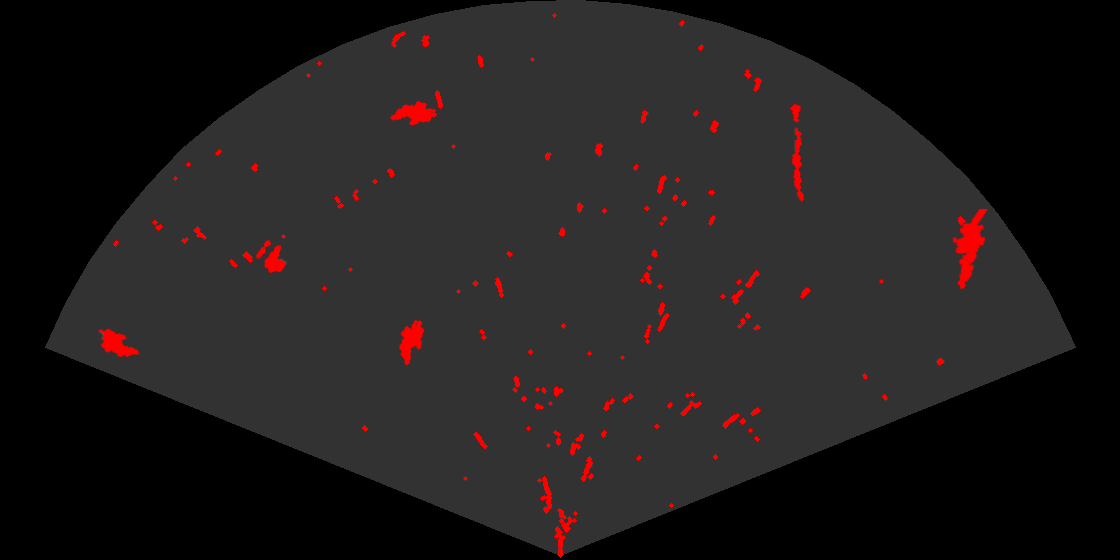AUV: (97, 327, 141, 359), (389, 99, 439, 127), (398, 318, 426, 367)
ball: (254, 239, 288, 275)
chain: (788, 103, 806, 203)
frogman: (951, 209, 990, 291)
